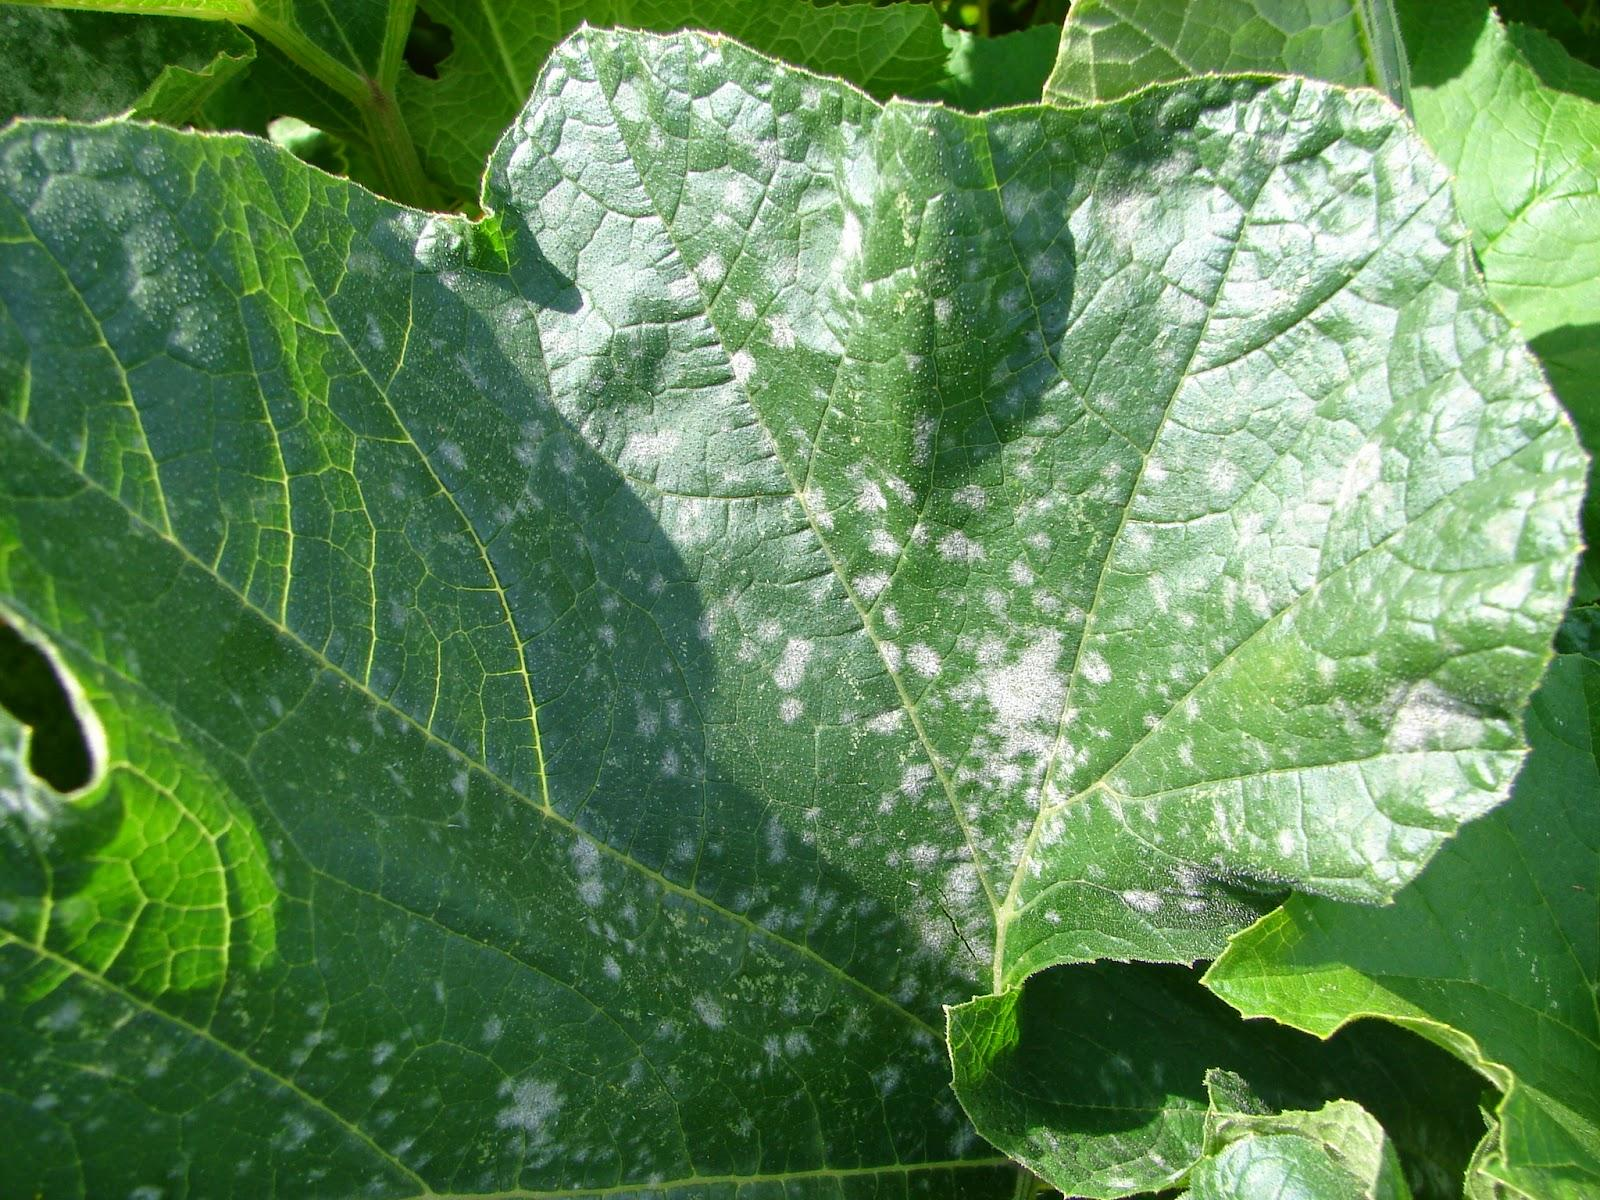Squash Powdery mildew leaf: (16, 14, 1600, 1175)
